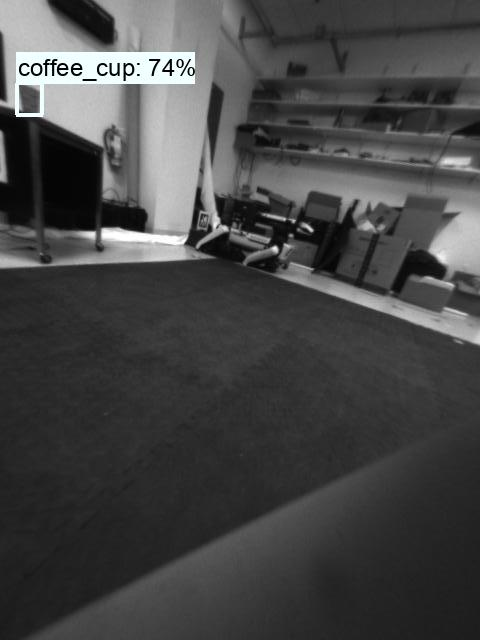coffee_cup: (16, 84, 42, 113)
